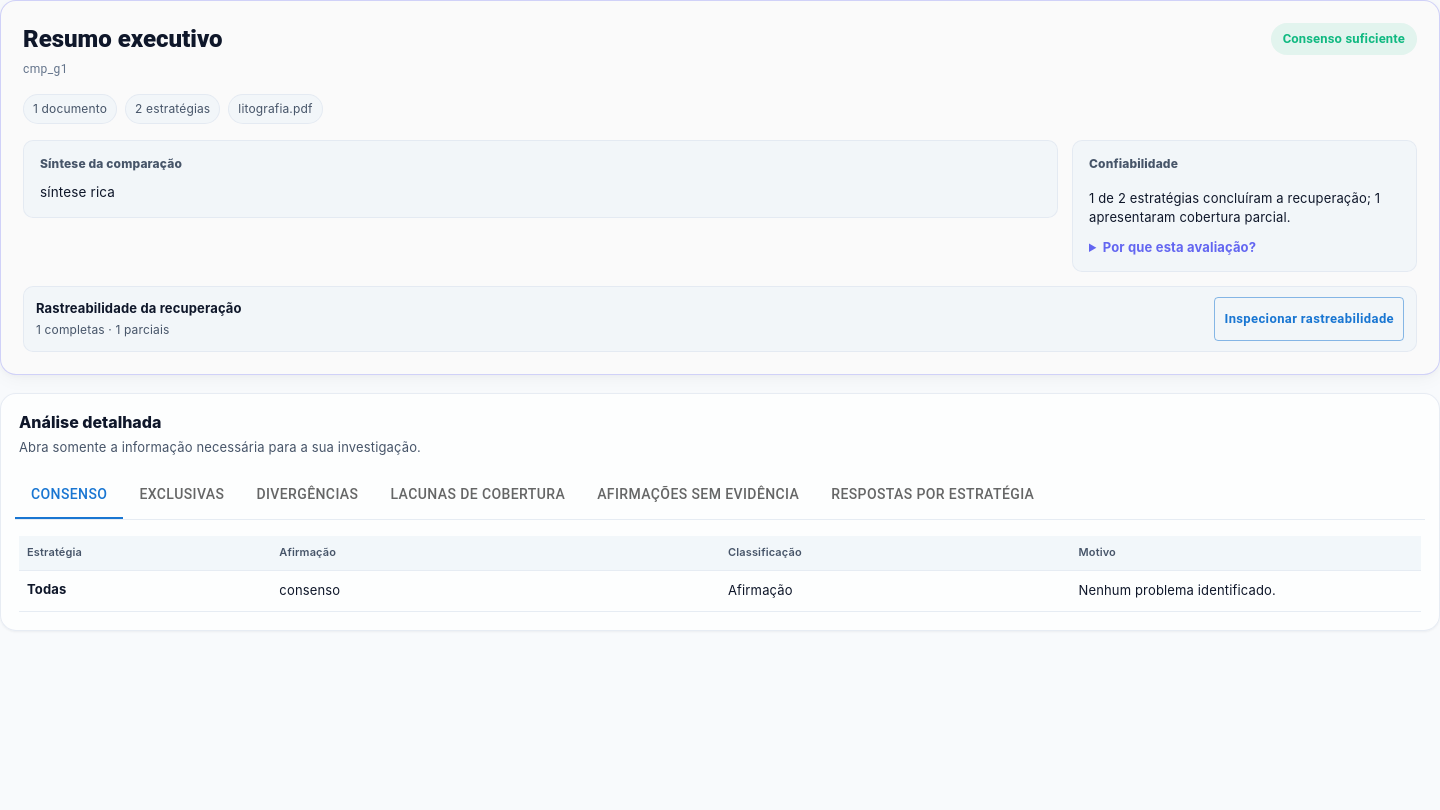
Test case: Grade visual da comparação (ComparisonDetailGrid) › contradições, consenso e síntese na grade
The image size is (1440, 810).
Expected: the text "consenso" is shown, [279,582,340,598]
Expected: the text "síntese rica" is shown, [40,184,115,200]
Click the tab "Divergências" at (307, 495), box [240,471,374,519]
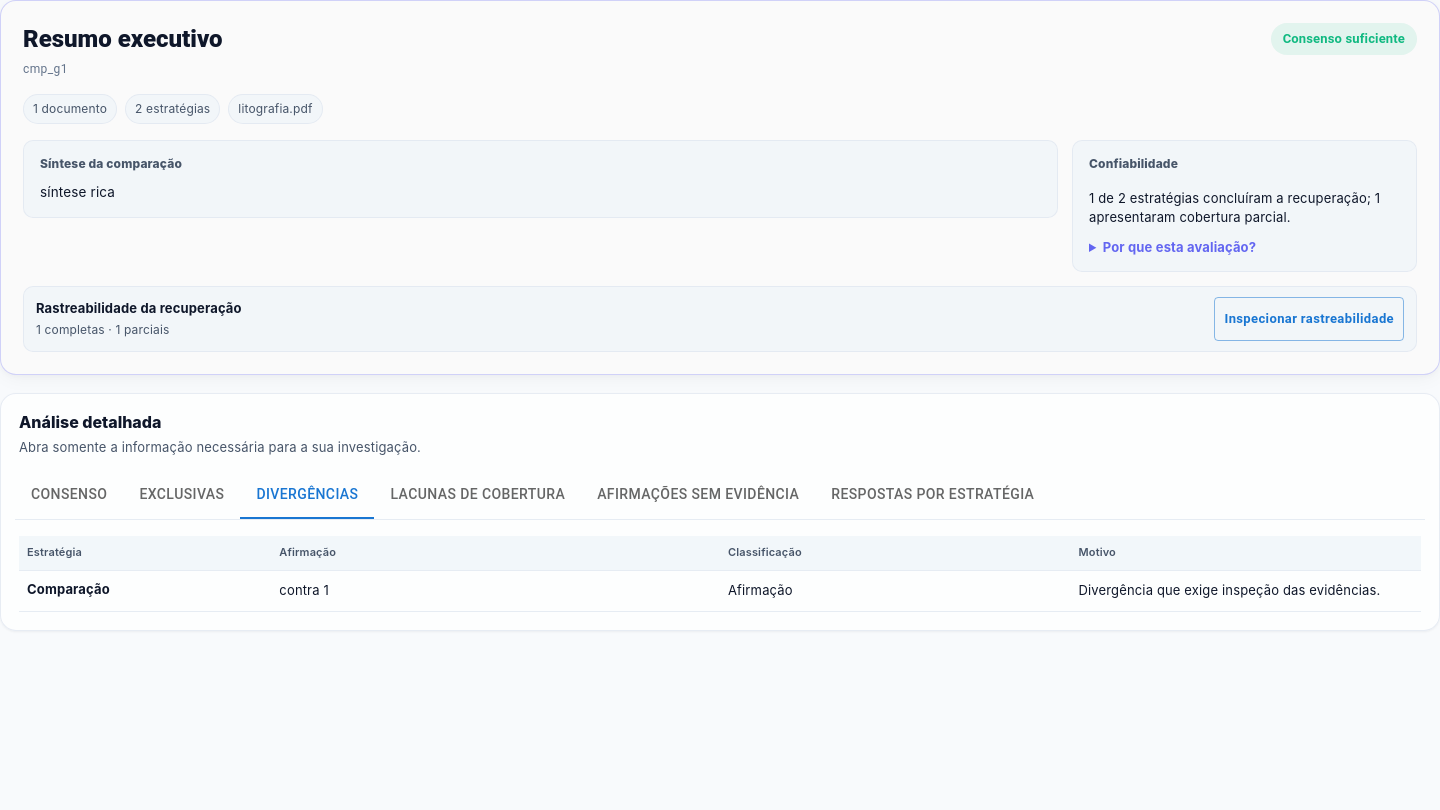
Expected: the row with test id "contradiction-0" shows "contra 1", [279,582,329,598]
